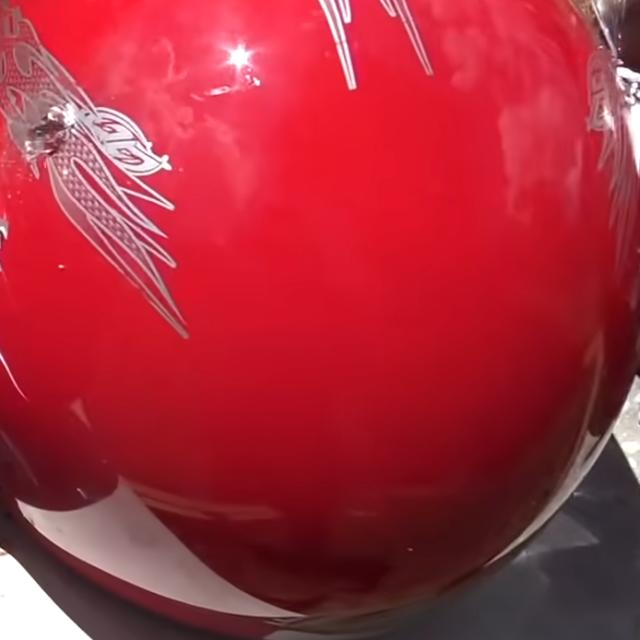bullets: (18, 97, 82, 163)
